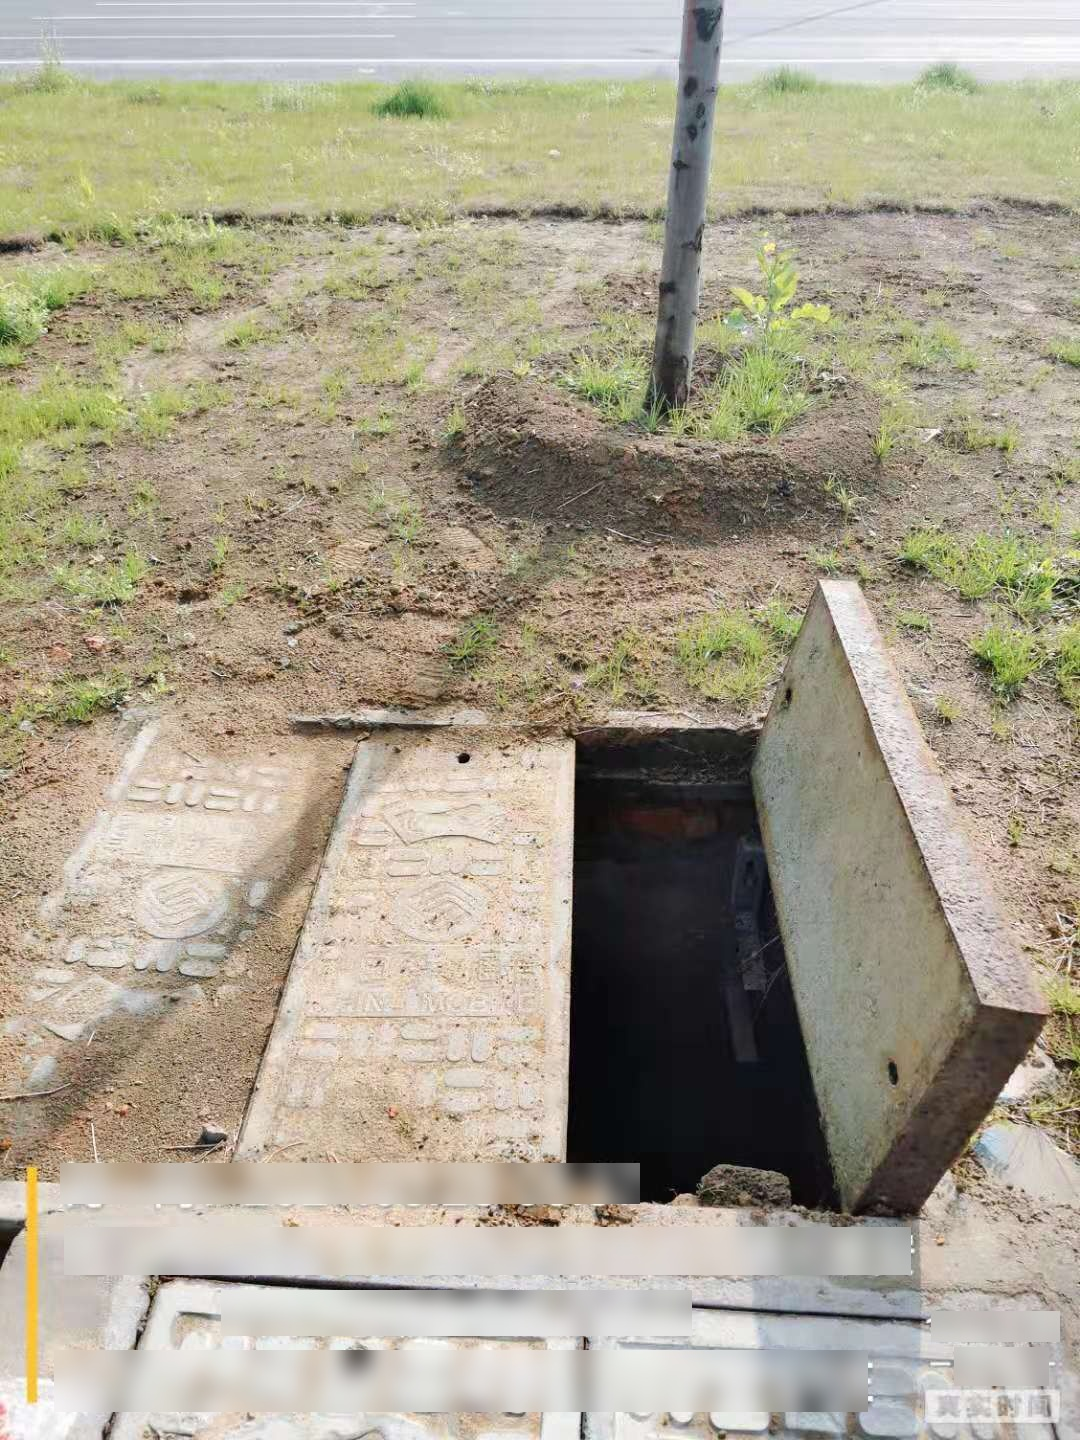uncovered: (10, 588, 1068, 1267)
